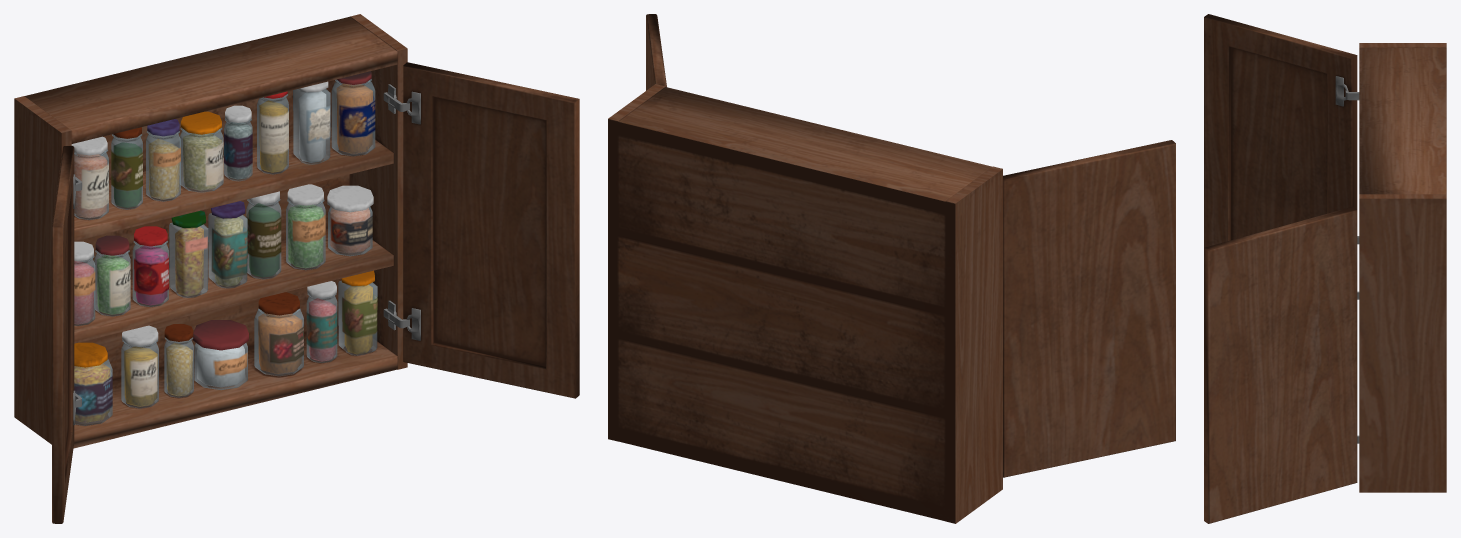
The model's file is kitchen_spice_cabinet__game_ready_model.glb.
3 views of the same model, side by side, from view 1: azimuth 30°, elevation 25°; view 2: azimuth 150°, elevation 25°; view 3: azimuth 270°, elevation 25° (orthographic). The views are drawn at different scales.
Parts seen in each view (by area): view 1: Cupboard Set; view 2: Cupboard Set; view 3: Cupboard Set.
Part boxes in pixels (left/top/right/bottom): Cupboard Set: left=14, top=14, right=579, bottom=523; Cupboard Set: left=608, top=14, right=1175, bottom=523; Cupboard Set: left=1204, top=14, right=1446, bottom=523.
Size of the model in its own units: 1.25 by 0.7205 by 0.5395.
1 material, 1 textured.
